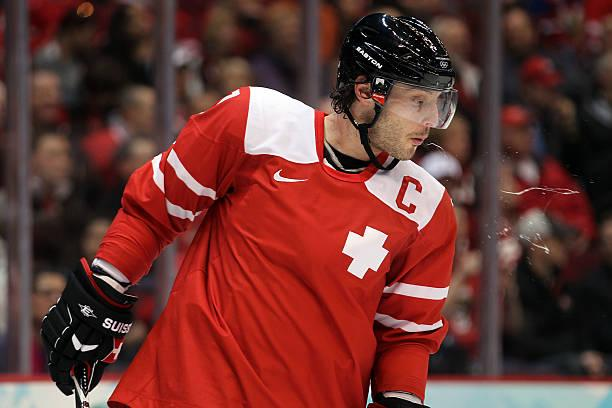Spitting: (321, 0, 560, 239)
